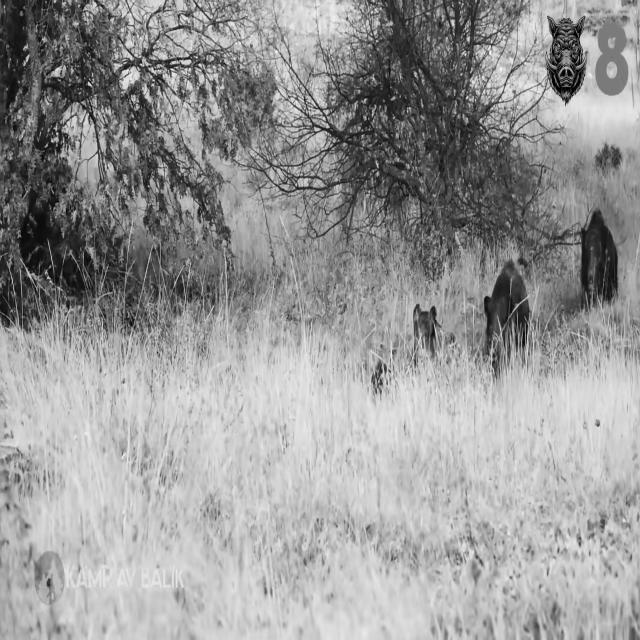boar: (484, 260, 529, 372), (581, 209, 617, 305), (411, 304, 440, 364)
